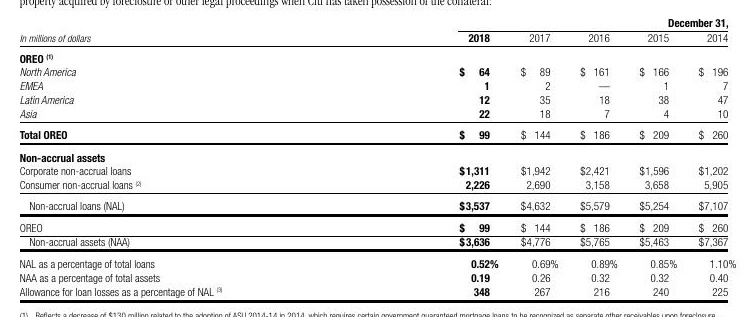table: (0, 0, 750, 317)
